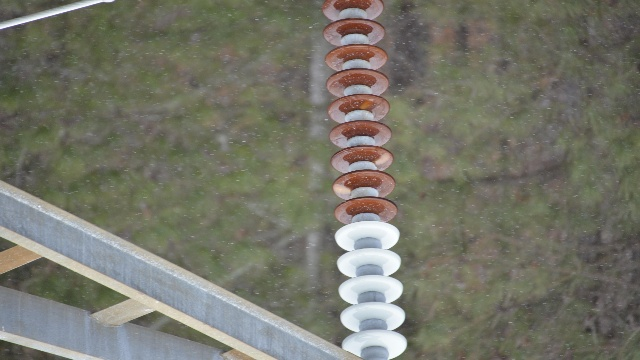insulator_unspecified: (323, 0, 409, 358)
pollution_flashover_local: (333, 181, 356, 199), (374, 153, 393, 169), (361, 97, 373, 113)
